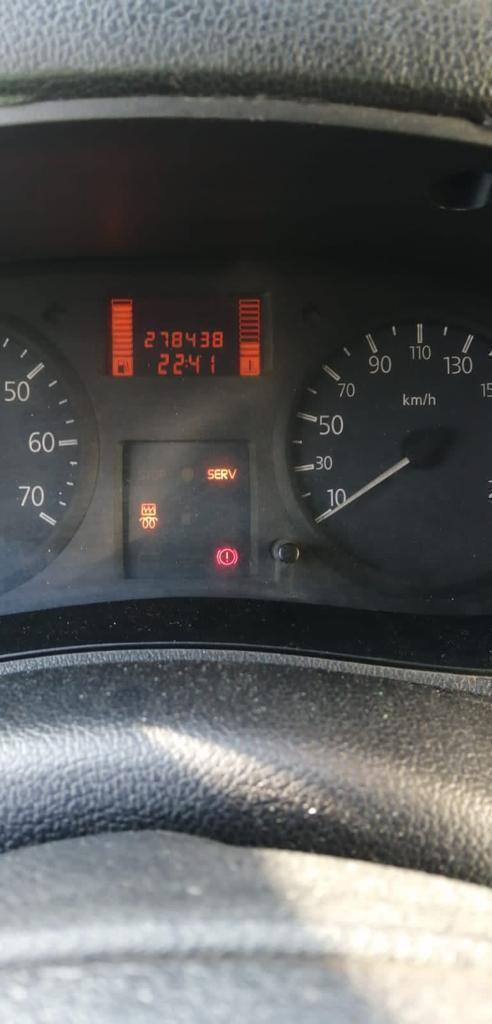1: (209, 353, 216, 375)
2: (157, 352, 169, 375), (172, 352, 184, 375), (143, 330, 156, 348)
3: (199, 331, 209, 348)
4: (188, 353, 199, 374), (185, 331, 196, 347)
7: (159, 331, 169, 348)
8: (211, 331, 223, 348), (171, 331, 182, 347)
X: (185, 359, 187, 368)
odometer: (100, 289, 276, 381)
